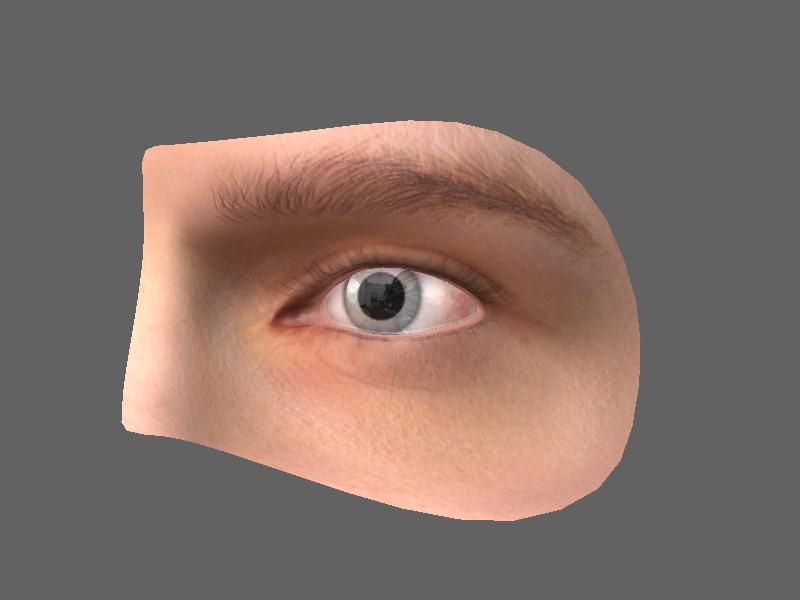iris: (343, 272, 424, 332)
